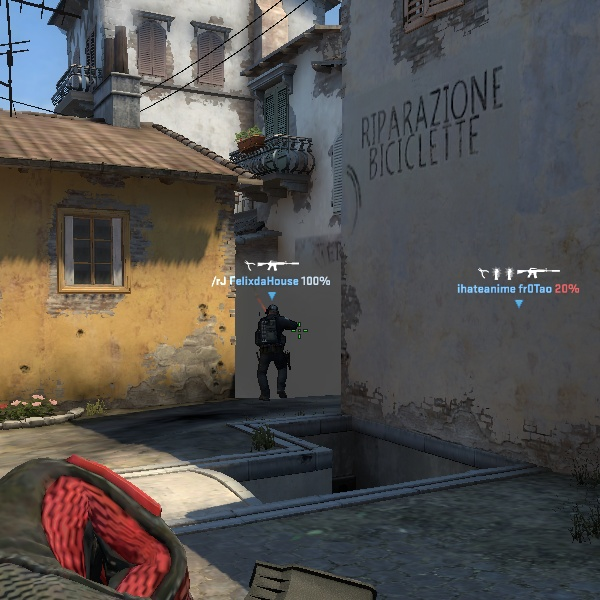ct_body: (244, 299, 301, 400)
